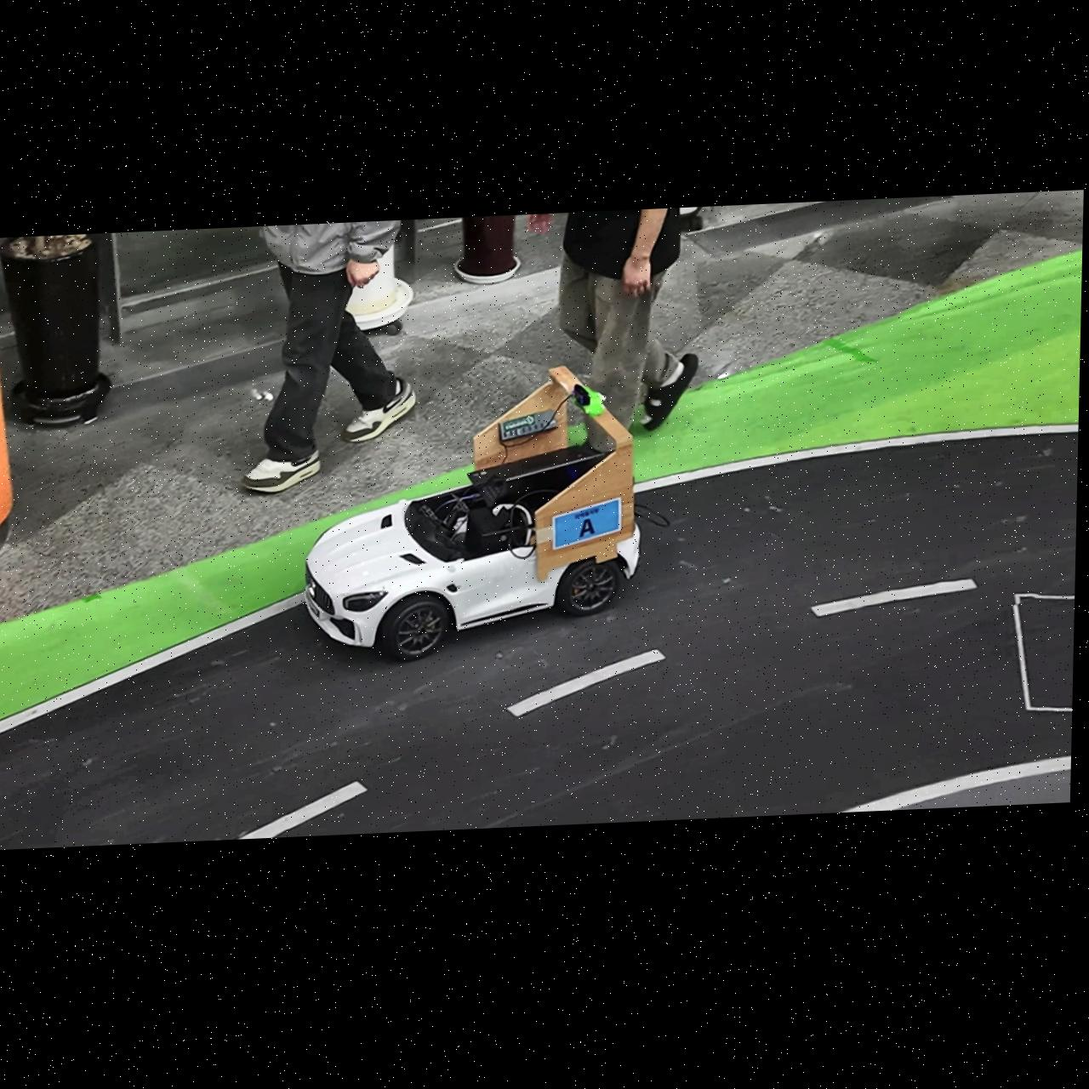broken_line: (506, 649, 666, 717), (238, 781, 368, 839), (810, 578, 978, 616)
